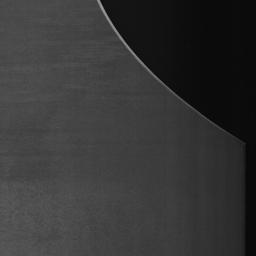Crescent gap: (103, 0, 237, 139)
